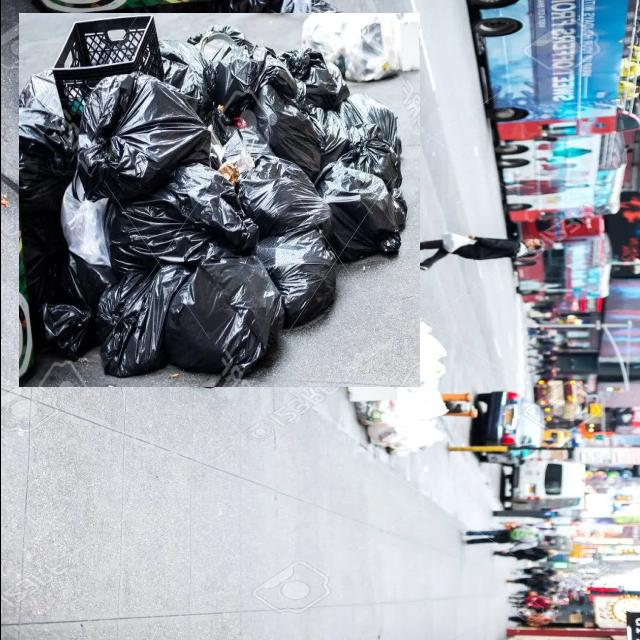garbage: (25, 7, 412, 394)
